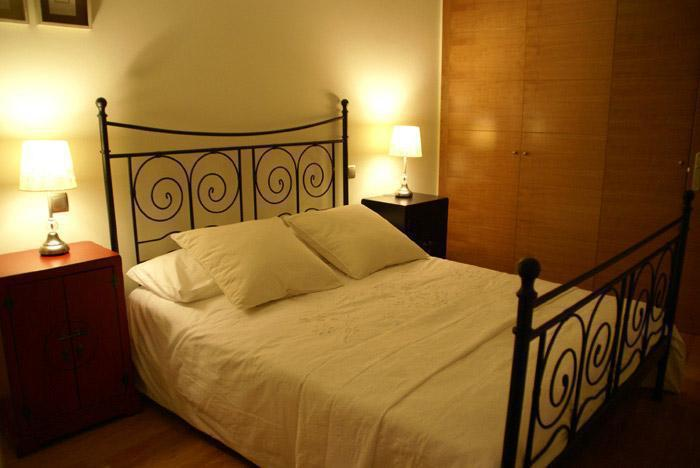Armario: (444, 4, 599, 283), (603, 7, 697, 303)
Cama: (98, 91, 681, 458)
